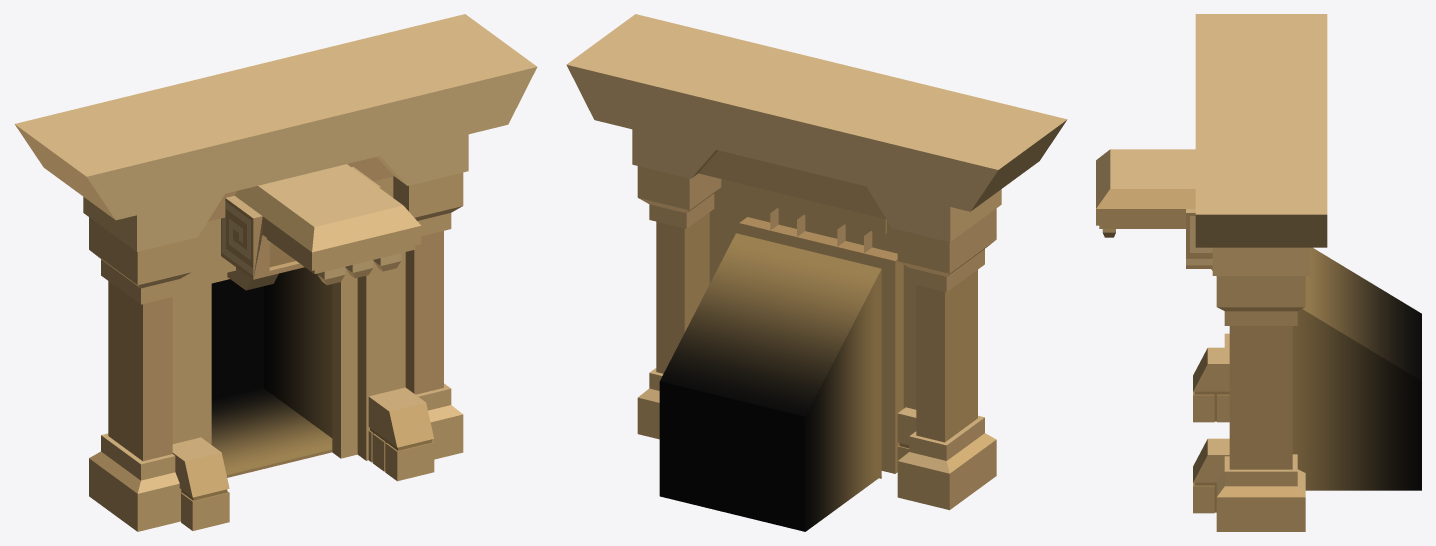
The model's file is ST_Env_Doorway_03.fbx.
The picture shows the model from 3 angles, left to right: view 1: azimuth 30°, elevation 25°; view 2: azimuth 150°, elevation 25°; view 3: azimuth 270°, elevation 25°; orthographic projection. The views are drawn at different scales.
Visible parts, largest first — view 1: ST_Env_Doorway_03; view 2: ST_Env_Doorway_03; view 3: ST_Env_Doorway_03.
Boxes of the visible parts, left/top/right/bottom form: ST_Env_Doorway_03: left=14, top=14, right=537, bottom=531; ST_Env_Doorway_03: left=566, top=14, right=1067, bottom=531; ST_Env_Doorway_03: left=1096, top=14, right=1421, bottom=531.
Size of the model in its own units: 8.31 by 6.67 by 5.71.
